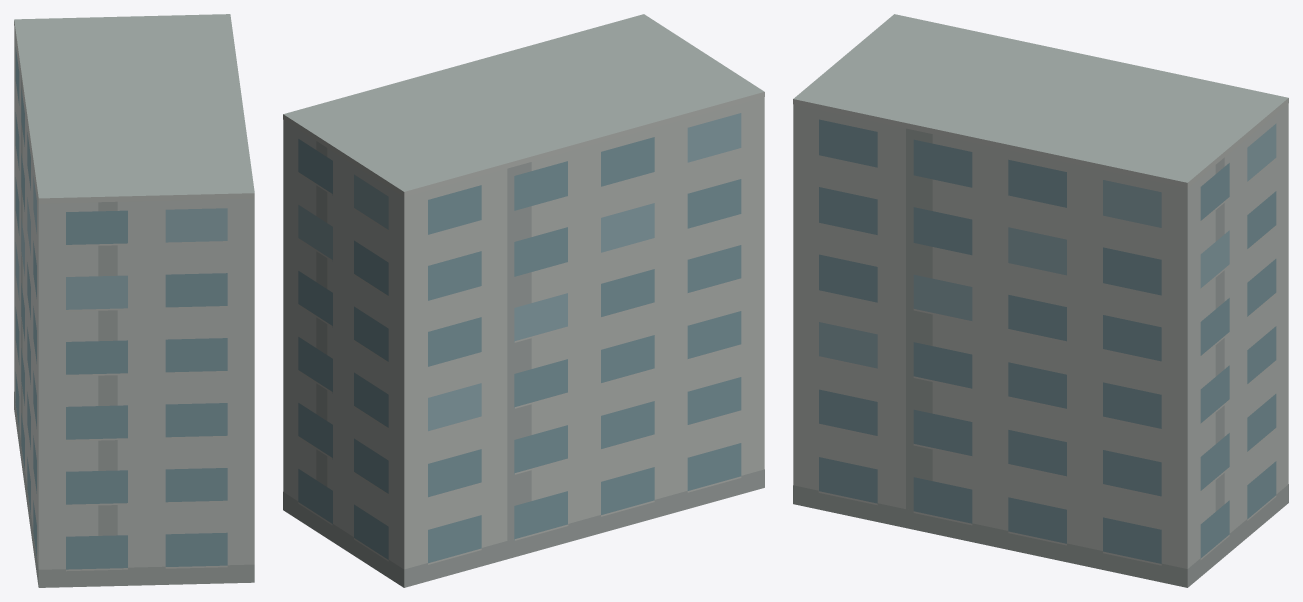
Rendered from residential-37029cb1-f55e-474b-be05-6daf3ea50974.glb.
The picture shows the model from 3 angles, left to right: view 1: azimuth 30°, elevation 25°; view 2: azimuth 150°, elevation 25°; view 3: azimuth 270°, elevation 25°; orthographic projection. The views are drawn at different scales.
Parts seen in each view (by area): view 1: residential-37029cb1-f55e-474b-be05-6daf3ea50974.tmp; view 2: residential-37029cb1-f55e-474b-be05-6daf3ea50974.tmp; view 3: residential-37029cb1-f55e-474b-be05-6daf3ea50974.tmp.
Part boxes in pixels (x1,y1,x2,y2): residential-37029cb1-f55e-474b-be05-6daf3ea50974.tmp: [14, 14, 254, 587]; residential-37029cb1-f55e-474b-be05-6daf3ea50974.tmp: [283, 14, 764, 587]; residential-37029cb1-f55e-474b-be05-6daf3ea50974.tmp: [793, 14, 1288, 587].
Bounding box in the file's own units: 16.1 × 18 × 19.97.
